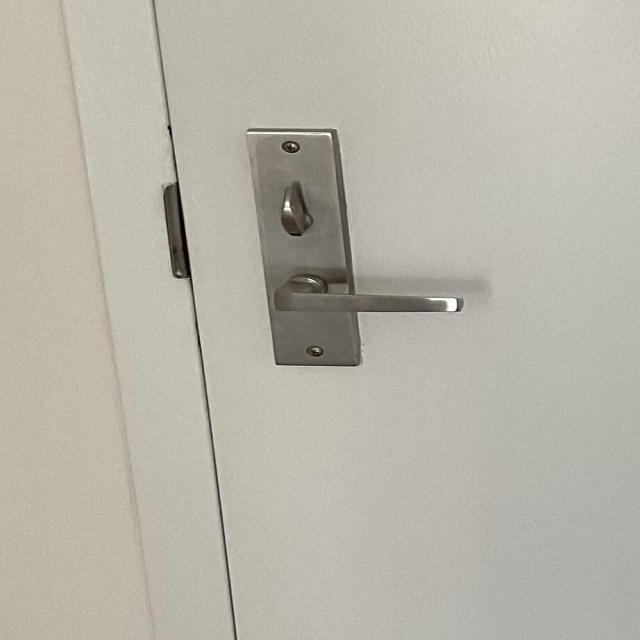door_handle: (248, 266, 484, 329)
